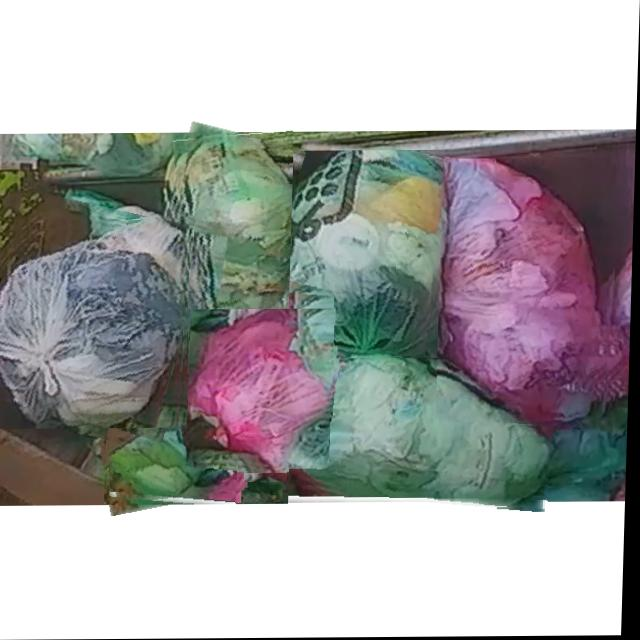general_trashbag: (292, 359, 552, 509), (281, 151, 451, 372), (178, 136, 292, 328), (110, 425, 240, 503), (249, 482, 285, 501)
other_trashbag: (444, 159, 612, 427), (0, 219, 189, 428), (191, 309, 332, 469)
